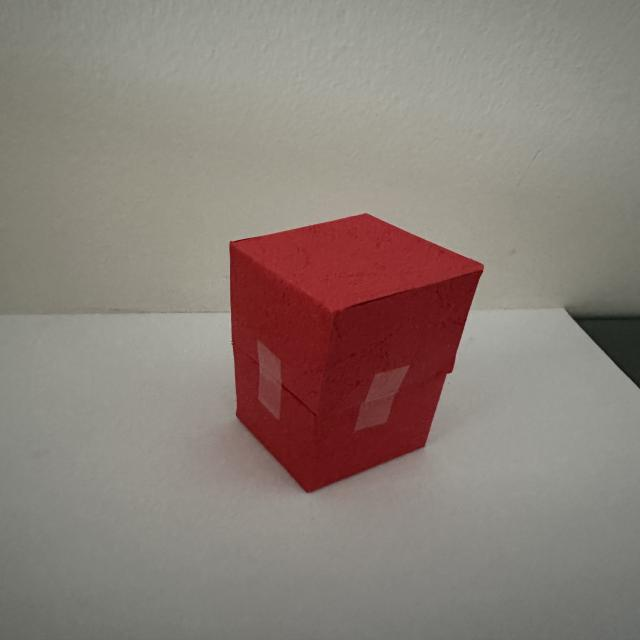red_cube: (190, 206, 500, 508)
